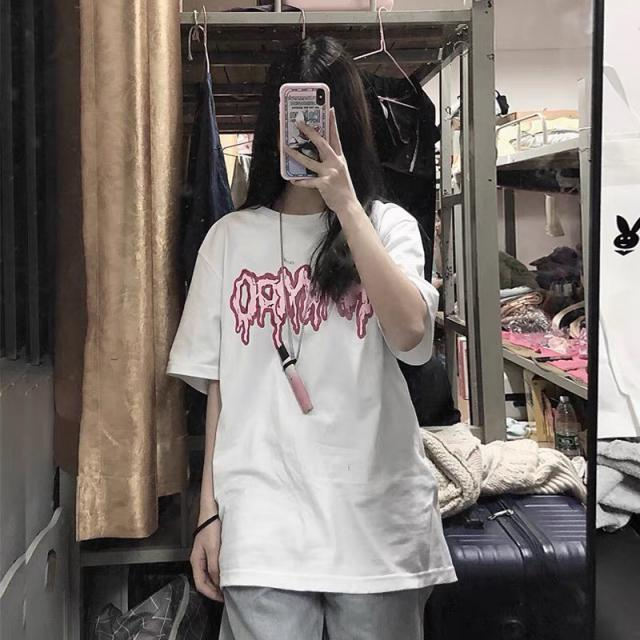Shirt: (166, 195, 460, 592)
